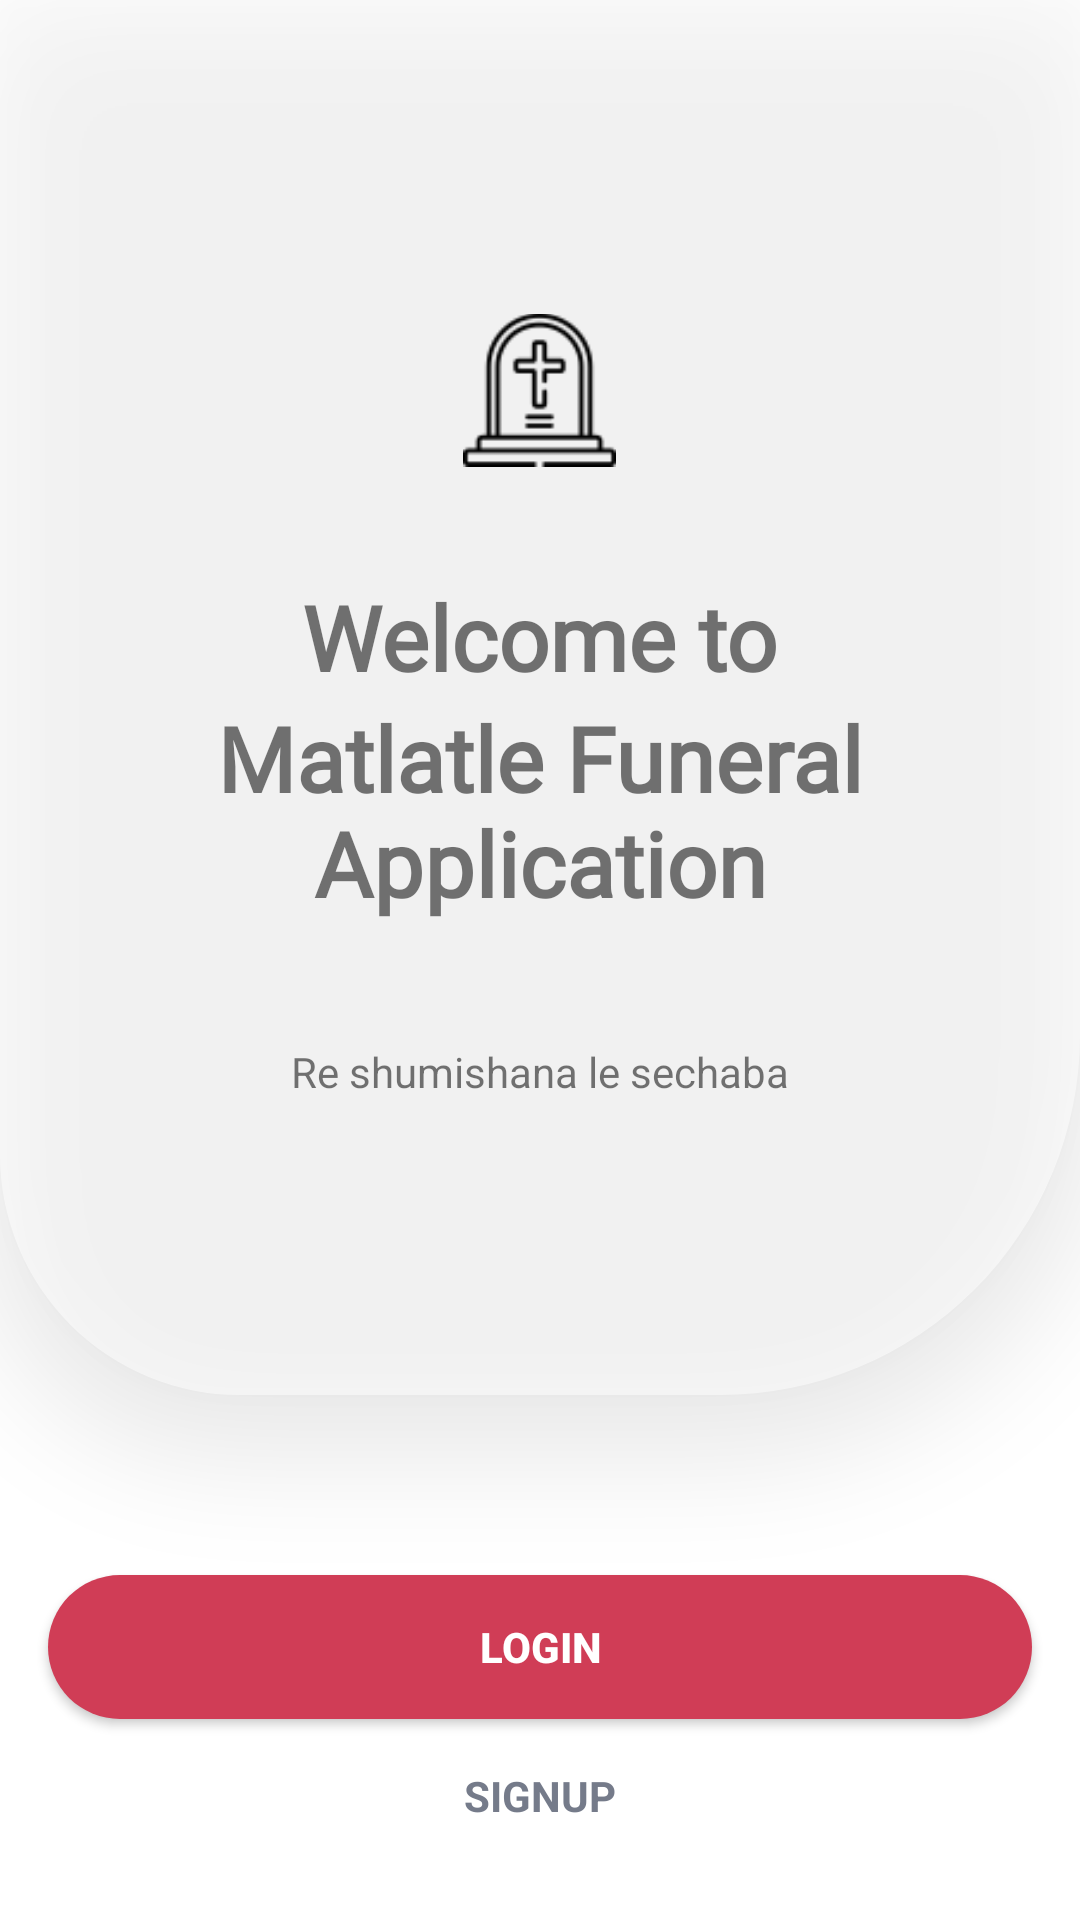

Where to tap for icons on this 1080px×1920px app screen, as point (x, y):
gravestone: point (539, 390)
